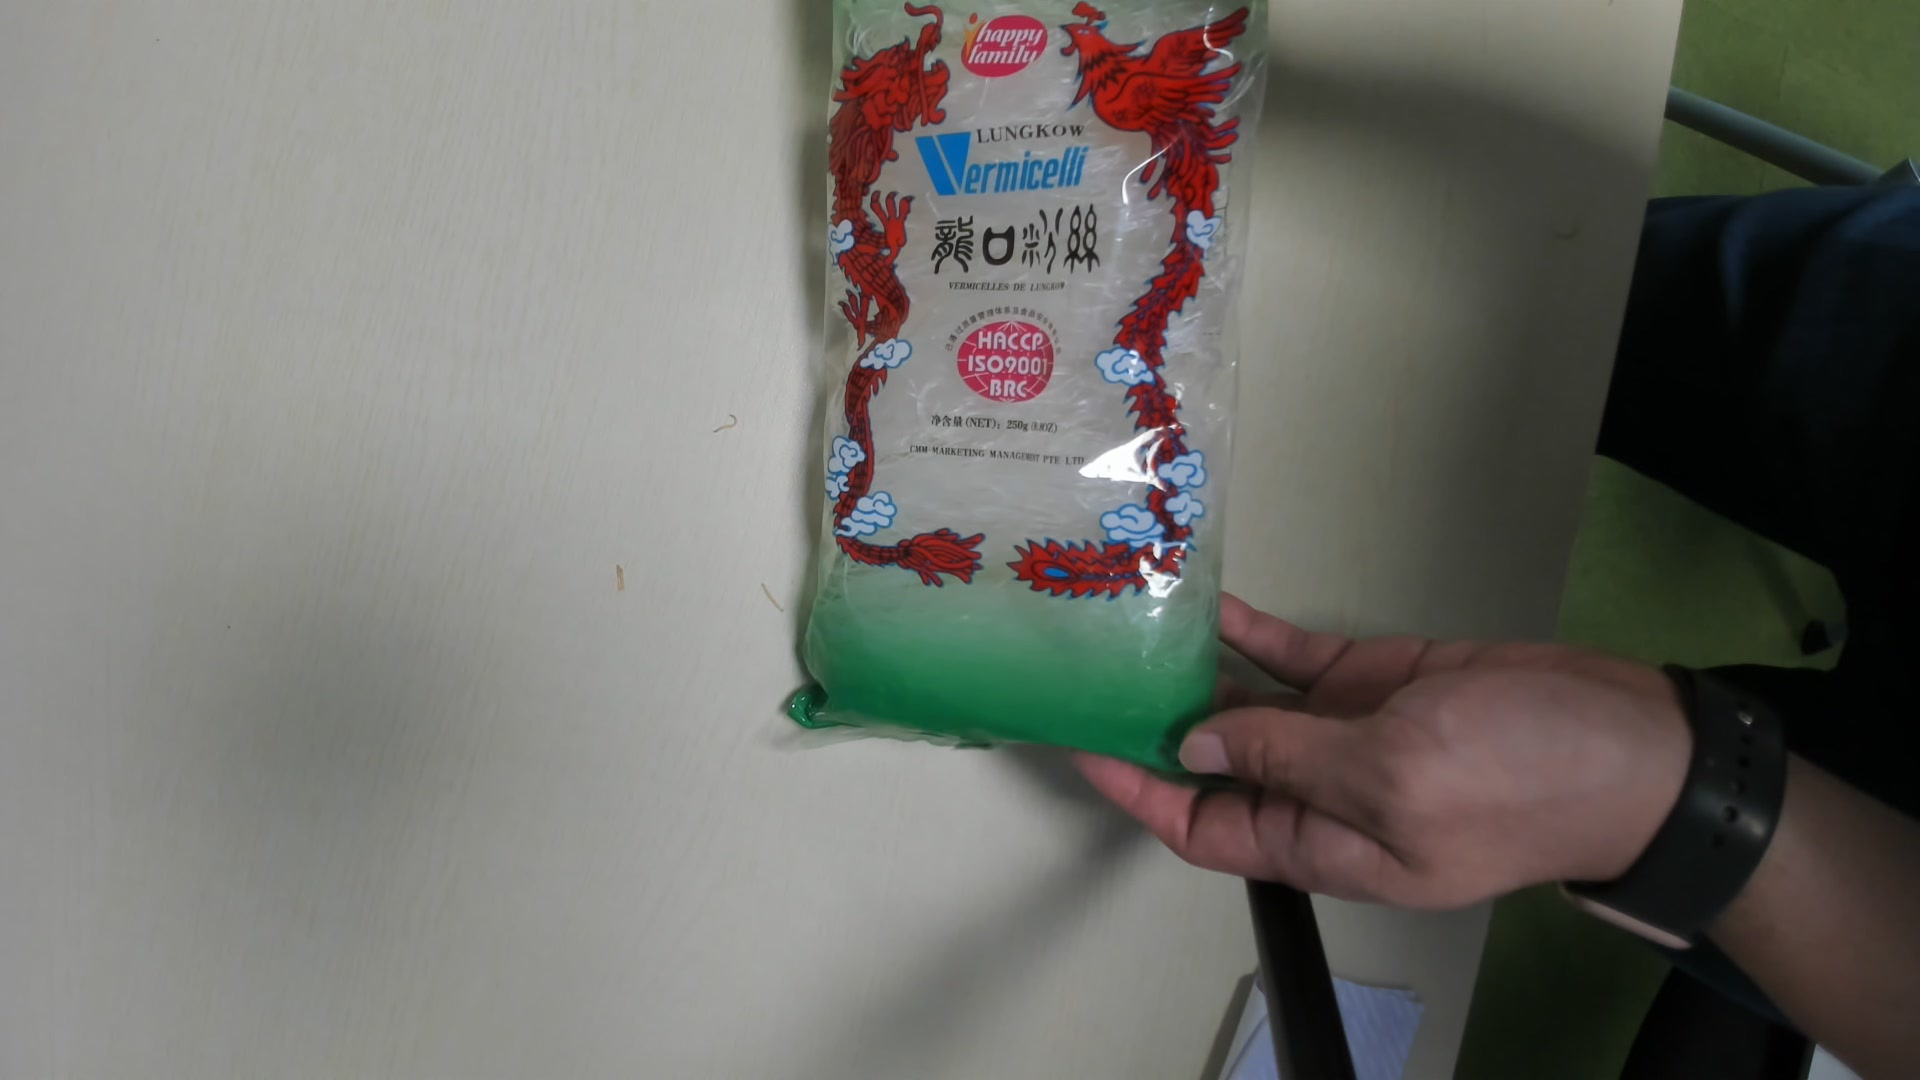BeeHoonVermicelli_200-299g_Halal_NonHealthy: (795, 11, 1261, 773)
